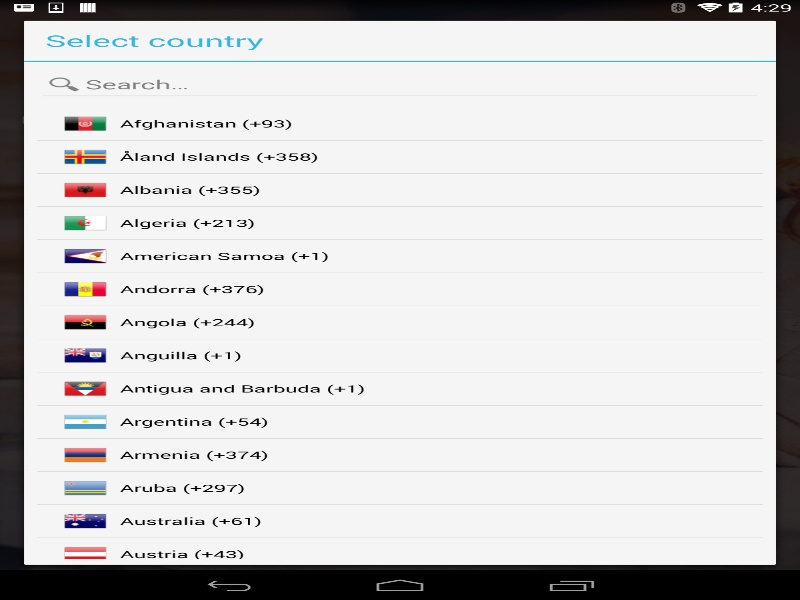Input: (37, 68, 762, 101)
